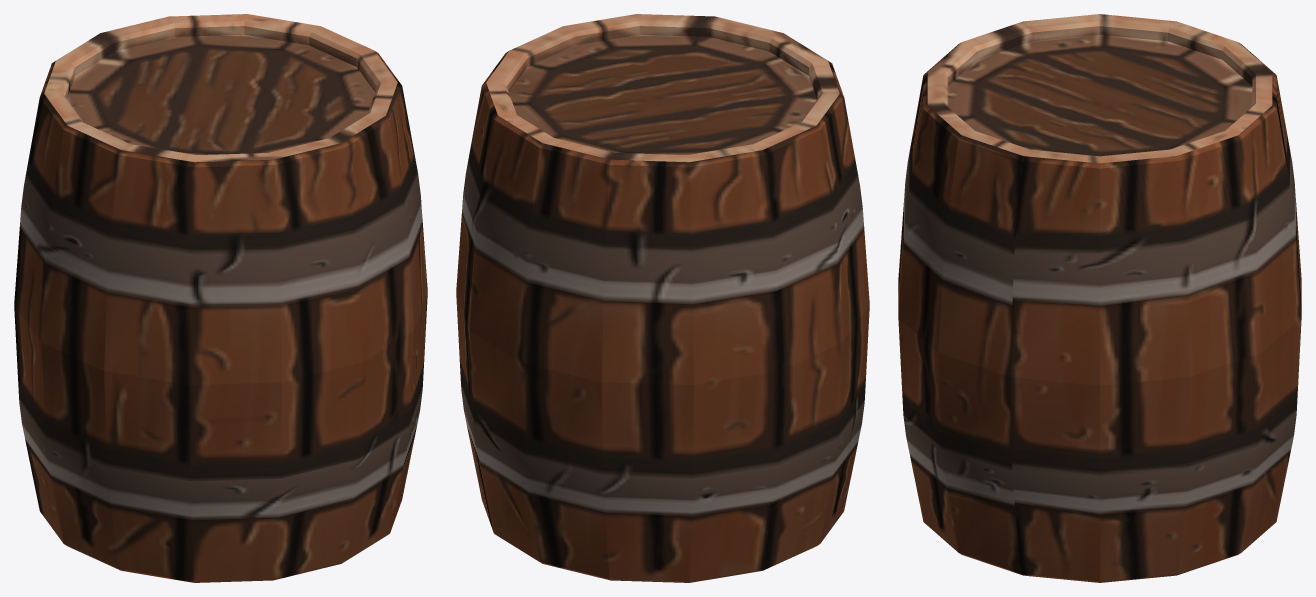
The model's file is Baral.fbx.
3 renders of one model, left to right at view 1: azimuth 30°, elevation 25°; view 2: azimuth 150°, elevation 25°; view 3: azimuth 270°, elevation 25°, orthographic.
Visible parts, largest first — view 1: Baral; view 2: Baral; view 3: Baral.
Part boxes in pixels (x1=…): Baral: x1=14, y1=14, x2=427, y2=582; Baral: x1=456, y1=14, x2=869, y2=582; Baral: x1=898, y1=14, x2=1301, y2=582.
Bounding box in the file's own units: 1.08 × 1.2 × 1.05.
